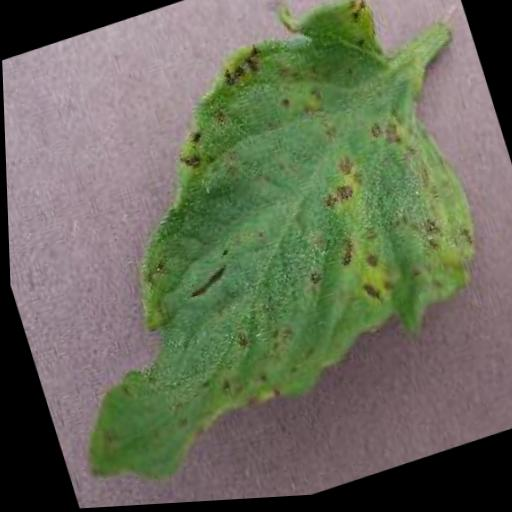Septoria: (0, 0, 512, 499)
